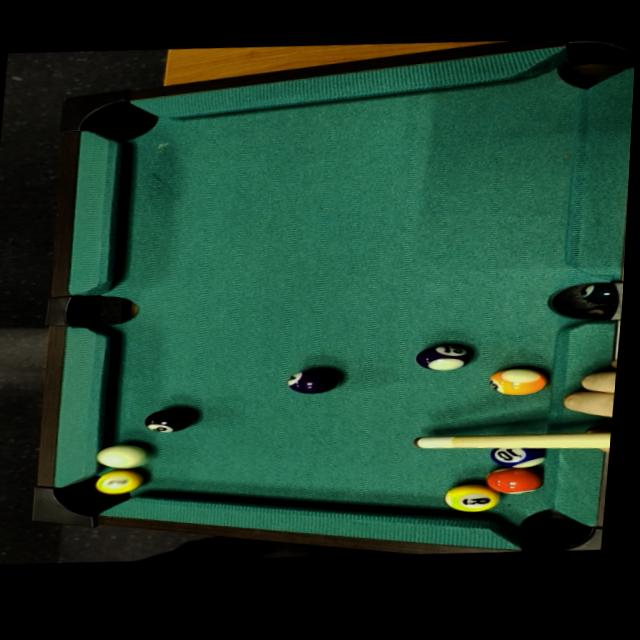cue ball: (89, 438, 157, 472)
other: (431, 473, 506, 516), (78, 465, 148, 503), (483, 439, 553, 473), (482, 465, 548, 501), (486, 363, 548, 400), (280, 365, 346, 397), (412, 340, 471, 374), (143, 406, 200, 434)
